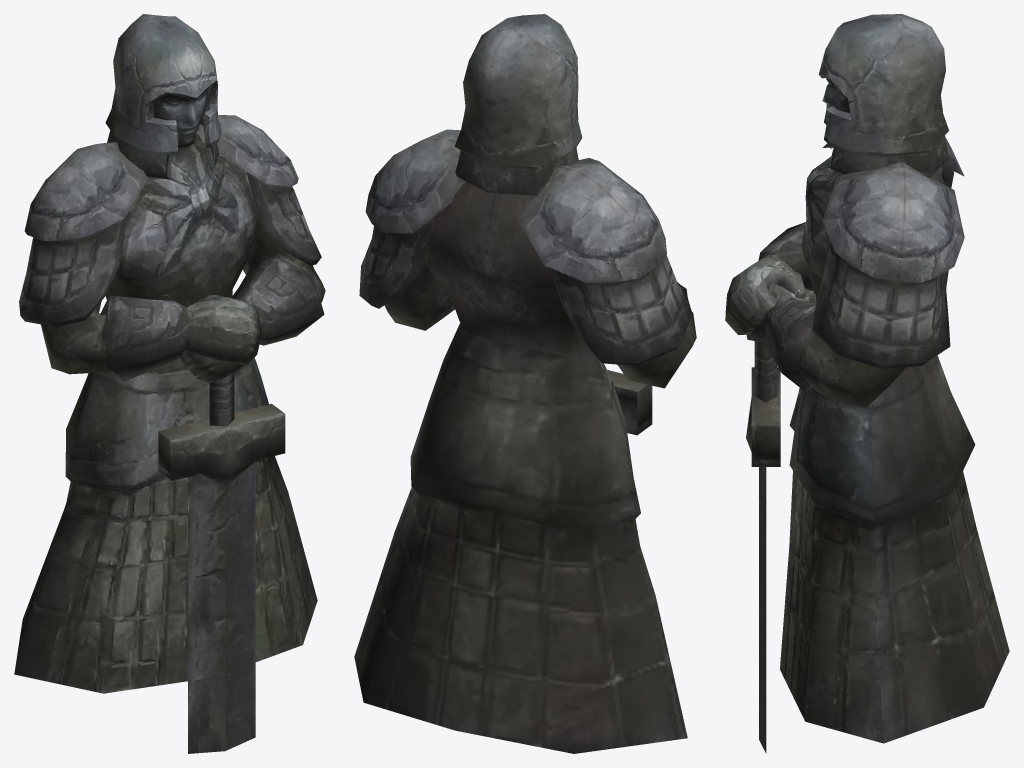
Rendered from StoneOther3.FBX.
3 views of the same model, side by side, from view 1: azimuth 30°, elevation 25°; view 2: azimuth 150°, elevation 25°; view 3: azimuth 270°, elevation 25° (orthographic). The views are drawn at different scales.
Parts seen in each view (by area): view 1: Object042; view 2: Object042; view 3: Object042.
Boxes of the visible parts, box(x1,y1,x2,y2) form: Object042: box(14, 14, 325, 753); Object042: box(354, 14, 696, 753); Object042: box(725, 14, 1009, 753).
Size of the model in its own units: 629 by 485 by 1357.
